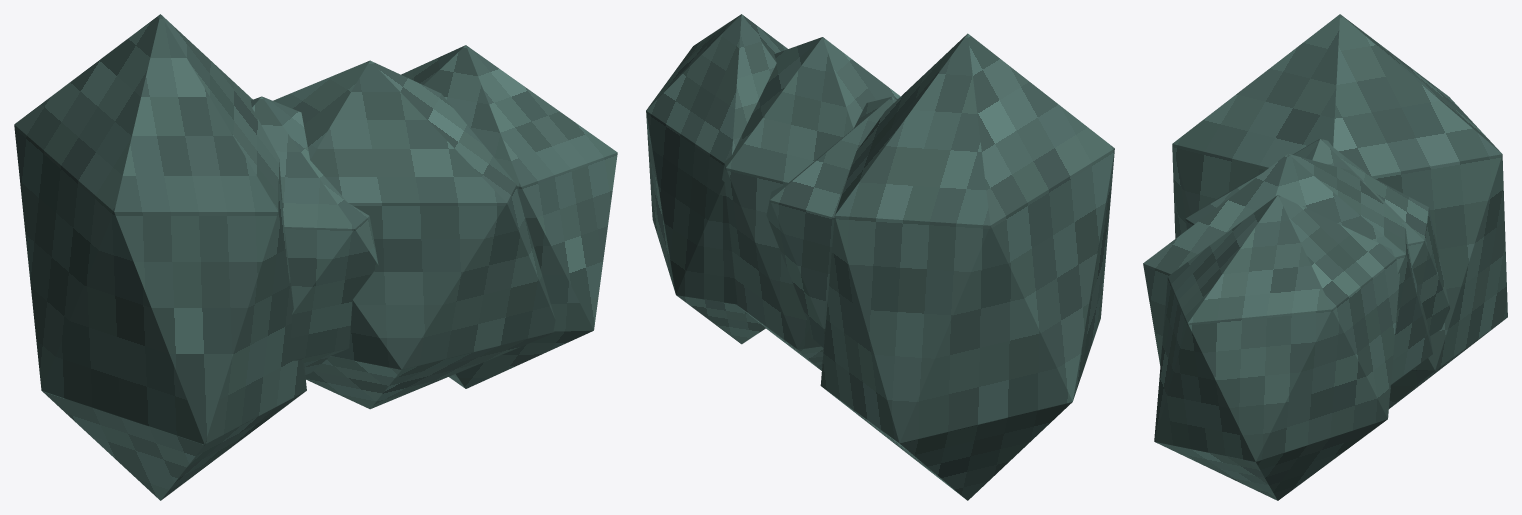
Rendered from ruin_05.glb.
3 views of the same model, side by side, from view 1: azimuth 30°, elevation 25°; view 2: azimuth 150°, elevation 25°; view 3: azimuth 270°, elevation 25° (orthographic). The views are drawn at different scales.
Visible parts, largest first — view 1: WeatheredStone, WeatheredStone.002, WeatheredStone.003, WeatheredStone.001; view 2: WeatheredStone, WeatheredStone.003, WeatheredStone.002, WeatheredStone.001; view 3: WeatheredStone.003, WeatheredStone, WeatheredStone.002, WeatheredStone.001.
Boxes of the visible parts, box(x1,y1,x2,y2) form: WeatheredStone: box(14, 14, 306, 500); WeatheredStone.002: box(273, 60, 555, 409); WeatheredStone.003: box(401, 45, 617, 388); WeatheredStone.001: box(250, 96, 378, 374); WeatheredStone: box(820, 33, 1114, 500); WeatheredStone.003: box(646, 14, 787, 344); WeatheredStone.002: box(722, 37, 900, 370); WeatheredStone.001: box(766, 97, 897, 347); WeatheredStone.003: box(1154, 195, 1399, 500); WeatheredStone: box(1172, 14, 1507, 408); WeatheredStone.002: box(1143, 153, 1432, 385); WeatheredStone.001: box(1185, 138, 1449, 335).
Size of the model in its own units: 2.45 by 2.32 by 1.77.
Materials: 1 (1 with a texture image).
